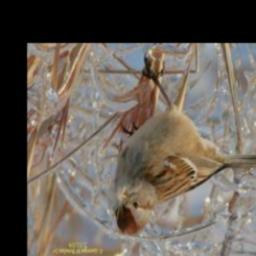Sparrow: (108, 53, 256, 239)
